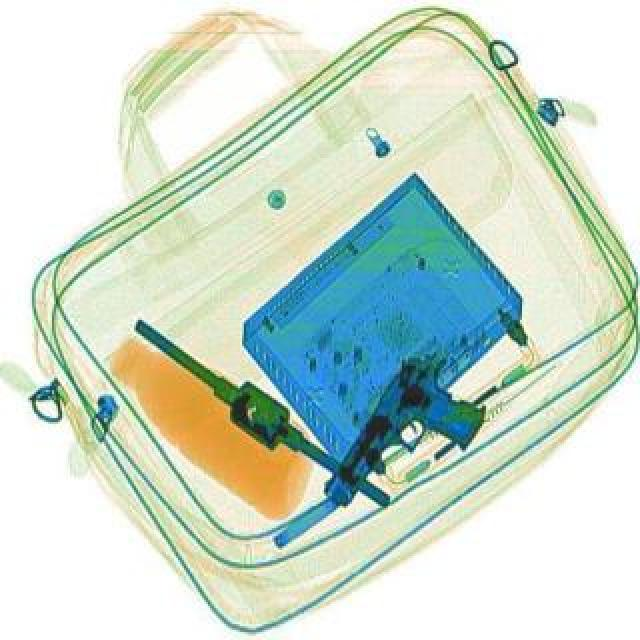gun: (324, 344, 508, 542)
